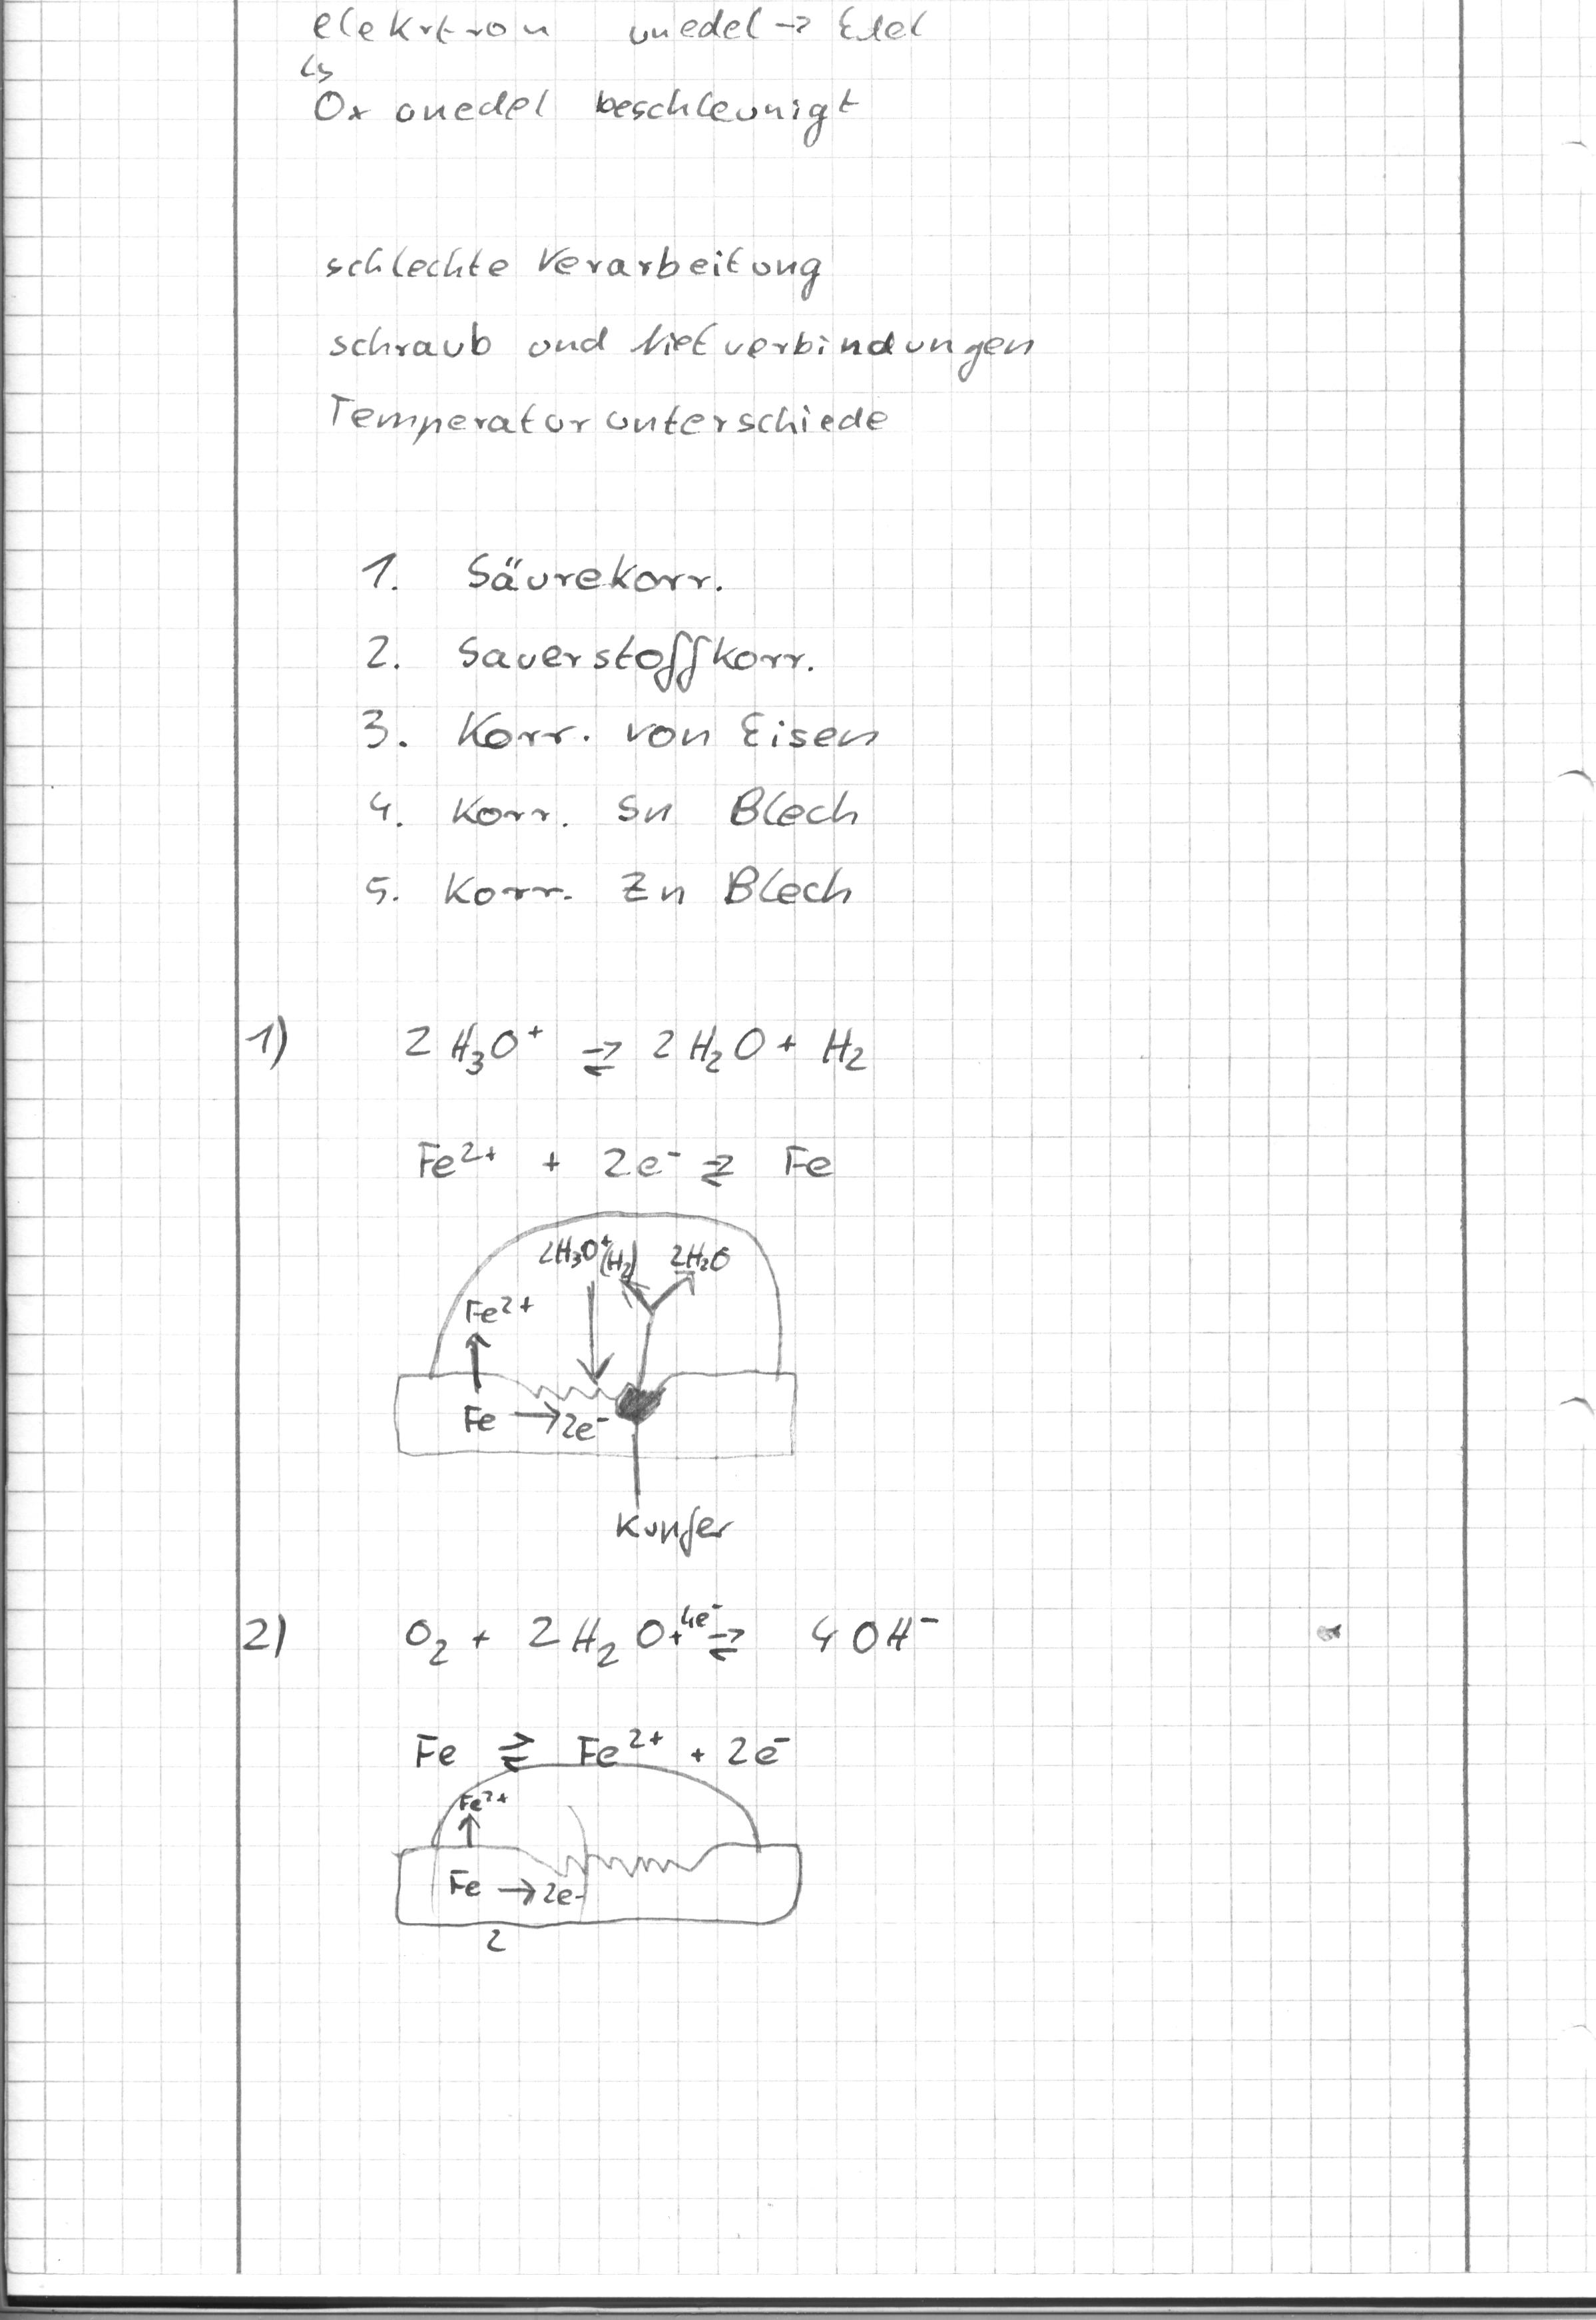word: (349, 533, 892, 936), (317, 224, 1051, 471), (380, 1593, 951, 1795), (388, 1002, 896, 1200), (286, 0, 933, 151), (597, 1487, 758, 1580), (212, 1581, 331, 1698), (214, 988, 331, 1088)
